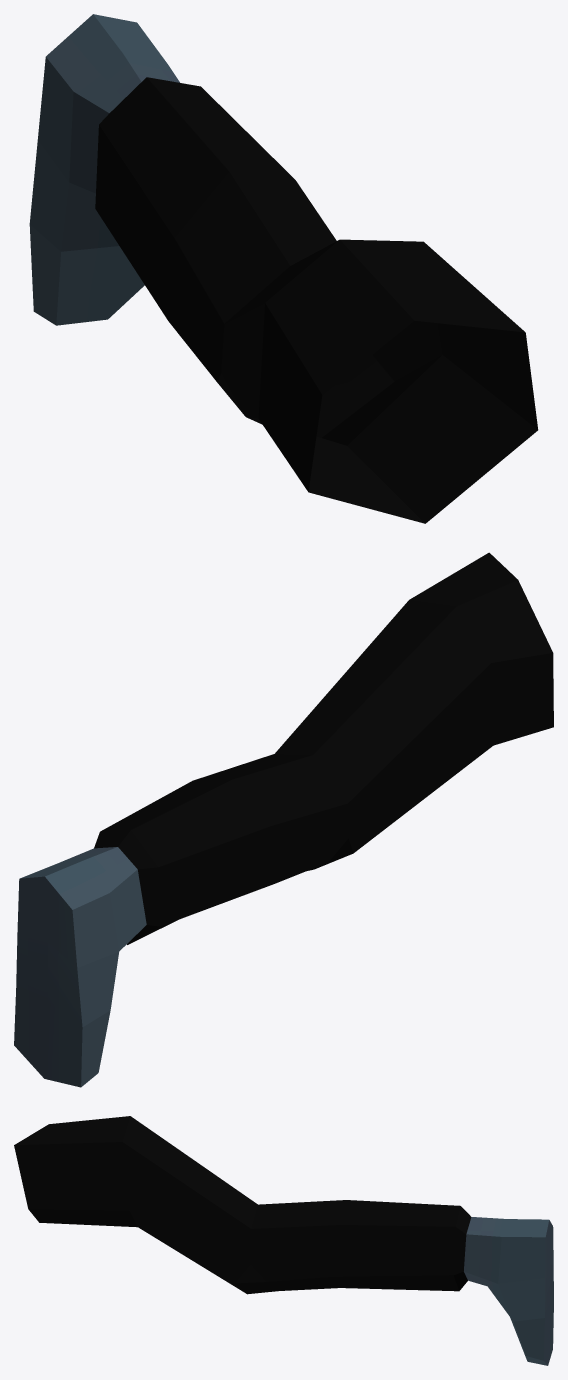
The model's file is 229_enemy_cop_001_japan.gltf.
The picture shows the model from 3 angles, top to bottom: view 1: azimuth 30°, elevation 25°; view 2: azimuth 150°, elevation 25°; view 3: azimuth 270°, elevation 25°; orthographic projection. The views are drawn at different scales.
Parts seen in each view (by area): view 1: enemy_cop_001_japan; view 2: enemy_cop_001_japan; view 3: enemy_cop_001_japan.
Part boxes in pixels (x1=…): enemy_cop_001_japan: x1=29, y1=14, x2=538, y2=523; enemy_cop_001_japan: x1=14, y1=552, x2=553, y2=1087; enemy_cop_001_japan: x1=14, y1=1116, x2=553, y2=1365.
Bounding box in the file's own units: 0.5938 × 0.7659 × 1.81.
Materials: 1 (1 with a texture image).
